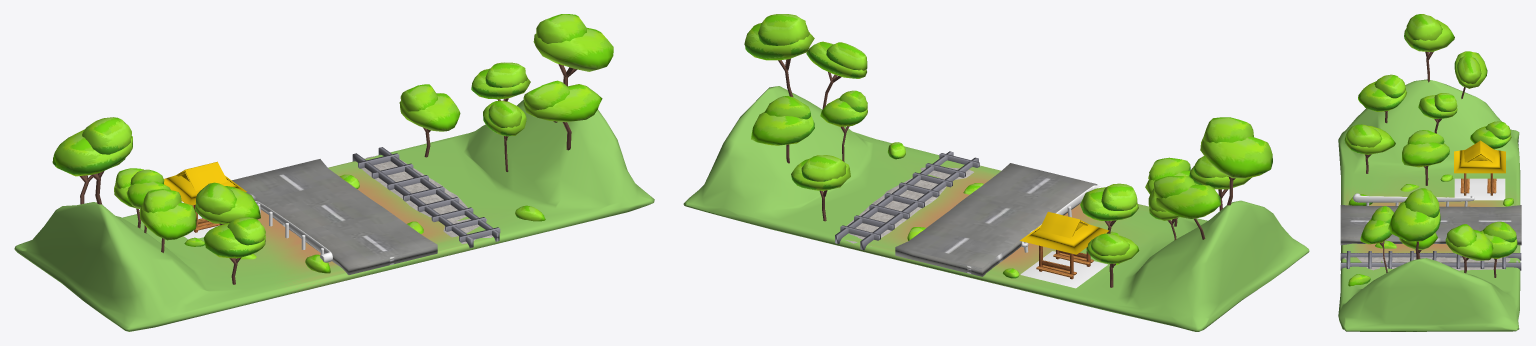
3 renders of one model, left to right at view 1: azimuth 30°, elevation 25°; view 2: azimuth 150°, elevation 25°; view 3: azimuth 270°, elevation 25°, orthographic. The views are drawn at different scales.
Parts seen in each view (by area): view 1: Box_1, Quad_Sphere, Box, Box_4, Tube, Box_2; view 2: Box_1, Quad_Sphere, Box, Box_4, Box_2, Tube, Box_3; view 3: Box_1, Quad_Sphere, Box, Box_2, Box_4, Tube, Box_3.
Boxes of the visible parts, x1=… form: Box_1: x1=14, y1=99, x2=654, y2=331; Quad_Sphere: x1=52, y1=14, x2=613, y2=273; Box: x1=232, y1=155, x2=492, y2=274; Box_4: x1=352, y1=147, x2=500, y2=247; Tube: x1=79, y1=64, x2=577, y2=284; Box_2: x1=164, y1=161, x2=246, y2=239; Box_1: x1=683, y1=86, x2=1309, y2=331; Quad_Sphere: x1=744, y1=14, x2=1272, y2=278; Box: x1=845, y1=163, x2=1097, y2=276; Box_4: x1=835, y1=151, x2=979, y2=250; Box_2: x1=1020, y1=211, x2=1109, y2=288; Tube: x1=778, y1=58, x2=1235, y2=287; Box_3: x1=1036, y1=245, x2=1093, y2=279; Box_1: x1=1338, y1=79, x2=1520, y2=331; Quad_Sphere: x1=1344, y1=14, x2=1517, y2=286; Box: x1=1340, y1=205, x2=1521, y2=270; Box_2: x1=1454, y1=140, x2=1505, y2=200; Box_4: x1=1340, y1=251, x2=1521, y2=270; Tube: x1=1353, y1=51, x2=1496, y2=277; Box_3: x1=1460, y1=173, x2=1496, y2=195.
Bounding box in the file's own units: 9.62 × 2.91 × 3.64.
Materials: 39 (37 with a texture image).
